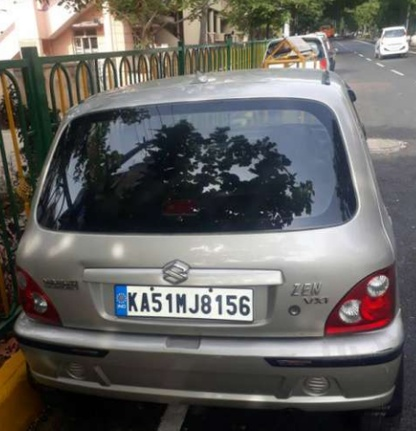number_plate: (113, 282, 257, 322)
